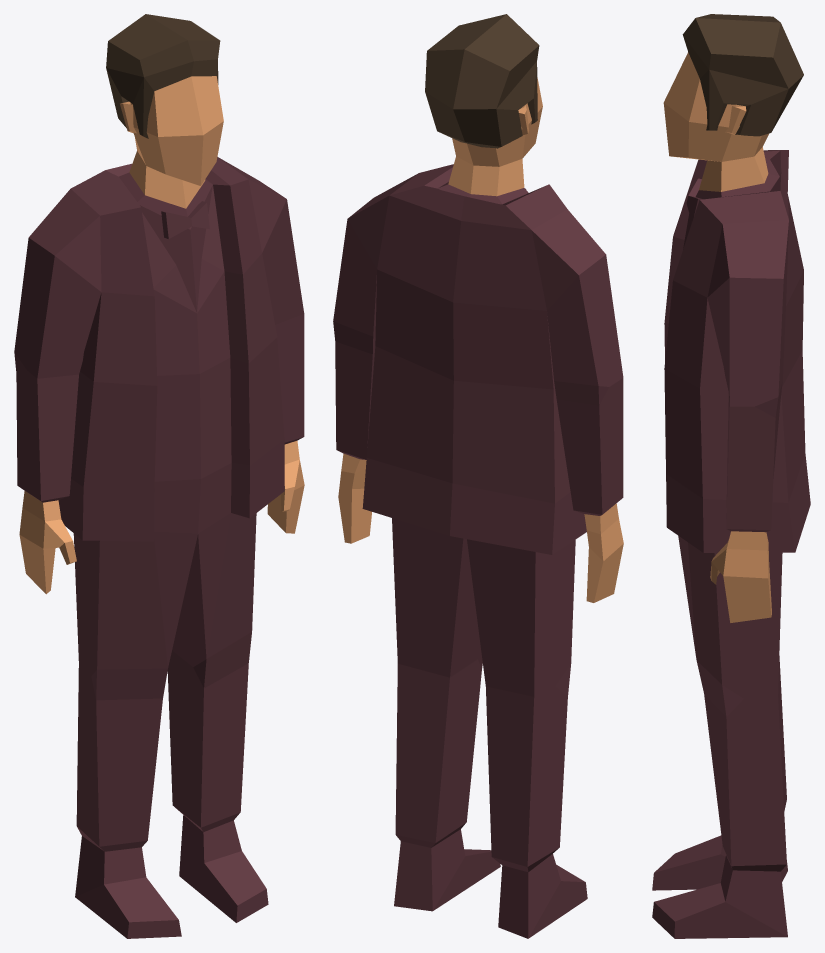
Rendered from man-wedding.fbx.
3 renders of one model, left to right at view 1: azimuth 30°, elevation 25°; view 2: azimuth 150°, elevation 25°; view 3: azimuth 270°, elevation 25°, orthographic.
Parts seen in each view (by area): view 1: man-wedding; view 2: man-wedding; view 3: man-wedding.
Boxes of the visible parts, left/top/right/bottom form: man-wedding: left=14, top=14, right=304, bottom=938; man-wedding: left=333, top=14, right=623, bottom=938; man-wedding: left=652, top=14, right=810, bottom=938.
Bounding box in the file's own units: 0.5881 × 1.84 × 0.2985.
